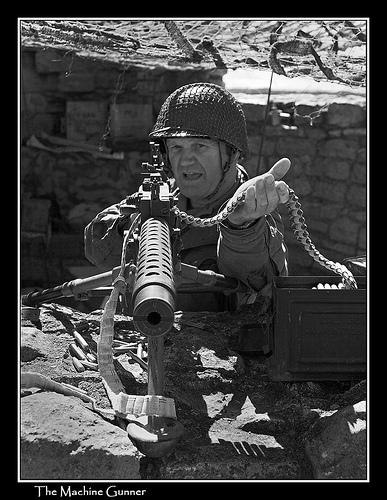rifle: (122, 183, 186, 341)
rifle in hand: (87, 175, 288, 367)
